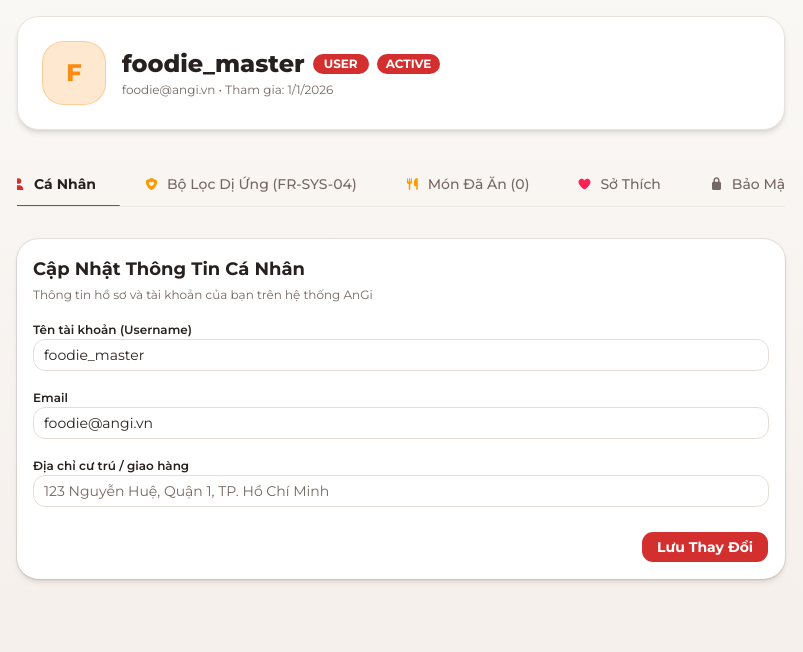
Test: ProfilePage Eaten Foods Sorting › renders eaten food items sorted descending by created_at
The width and height of the screenshot is (803, 652).
Expected: the text "Món Đã Ăn (0)" is shown, [428,174,529,194]
Click the tab "Món Đã Ăn (0)": coordinates (467, 184) [381,162,553,206]
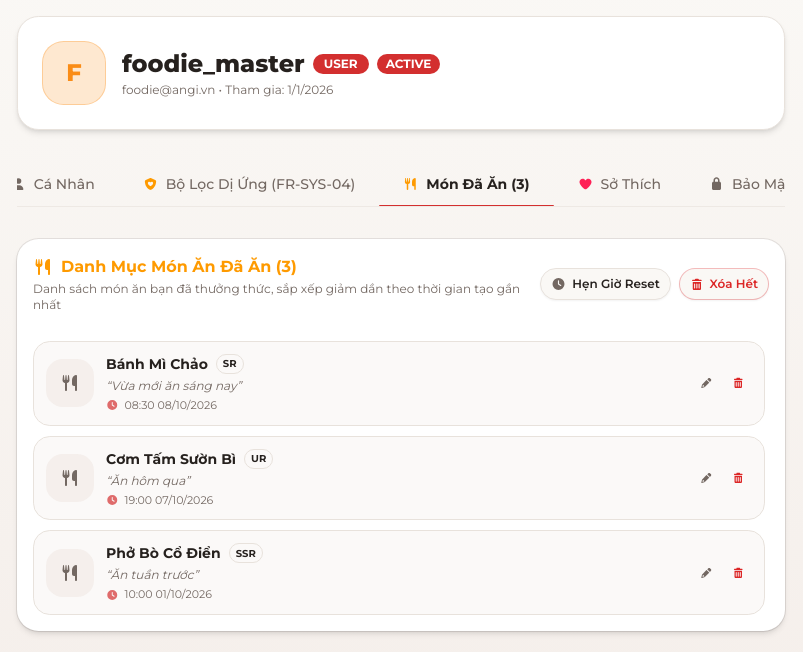
Expected: the text "Bánh Mì Chảo" is shown 3 times, [106,354,208,374]; [106,449,236,469]; [106,543,221,563]
Expected: the text "Bánh Mì Chảo" is shown, [106,354,208,374]
Expected: the text "Cơm Tấm Sườn Bì" is shown, [106,449,236,469]
